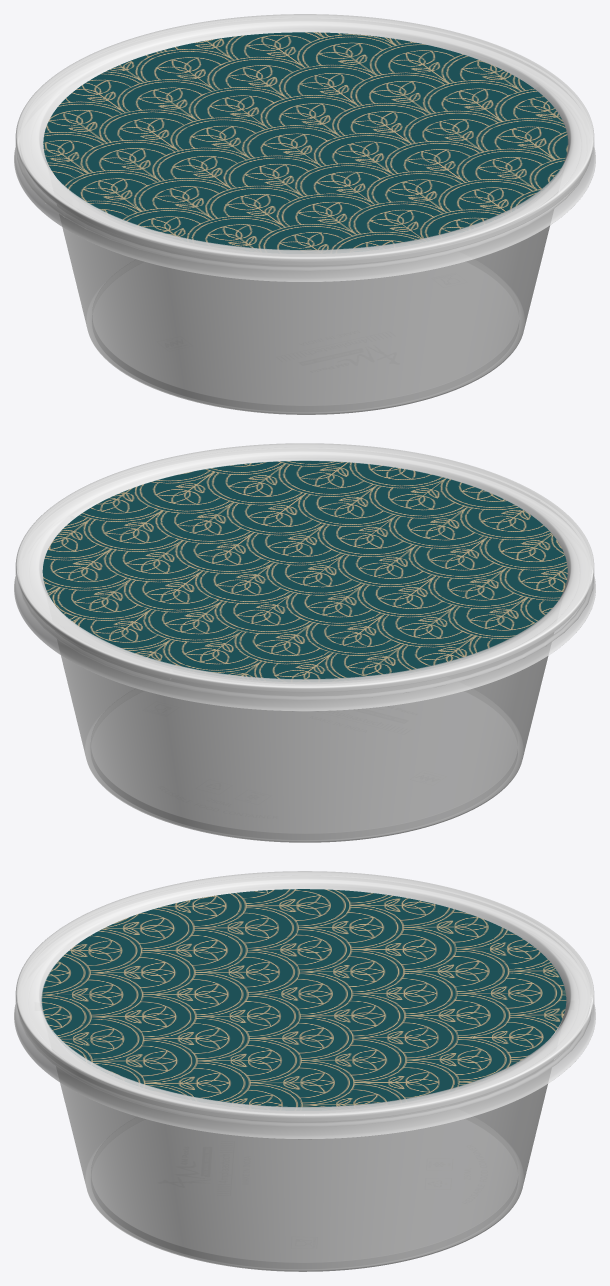
The model's file is 250ml_round.glb.
3 renders of one model, top to bottom at view 1: azimuth 30°, elevation 25°; view 2: azimuth 150°, elevation 25°; view 3: azimuth 270°, elevation 25°, orthographic.
Visible parts, largest first — view 1: top.003, tran, top; view 2: top.003, tran, top; view 3: top.003, tran, top.
Part boxes in pixels (<box>): top.003: <box>43,32,568,250</box>; tran: <box>20,17,592,414</box>; top: <box>14,14,595,281</box>; top.003: <box>42,460,567,679</box>; tran: <box>18,447,591,842</box>; top: <box>14,443,595,711</box>; top.003: <box>41,889,566,1107</box>; tran: <box>17,875,590,1271</box>; top: <box>14,871,595,1139</box>.
Size of the model in its own units: 0.1198 by 0.0424 by 0.1198.
5 materials, 3 textured.
